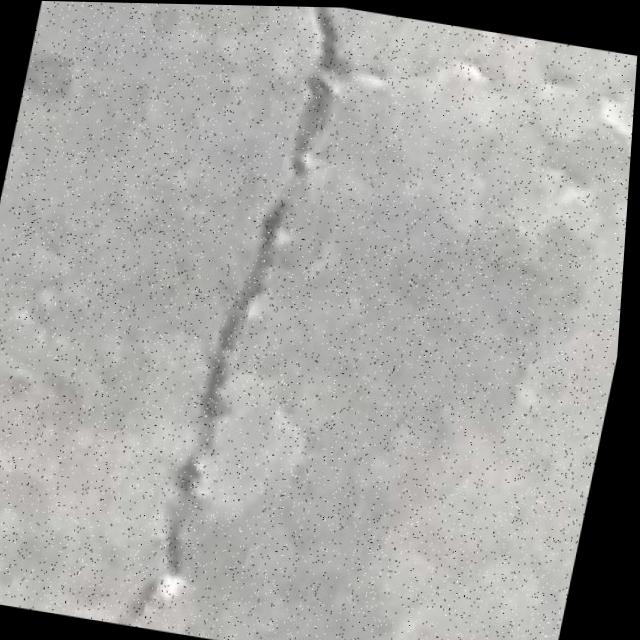Crack: (104, 2, 380, 640)
